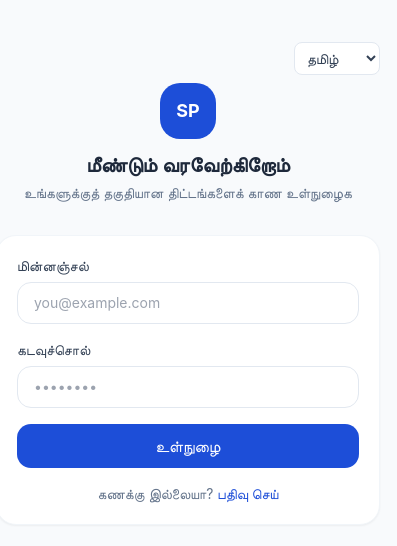
translated forms and validation › shows validation errors in the selected language
Click the button "உள்நுழை". click: coordinates (188, 446)
box: [17,424,359,468]
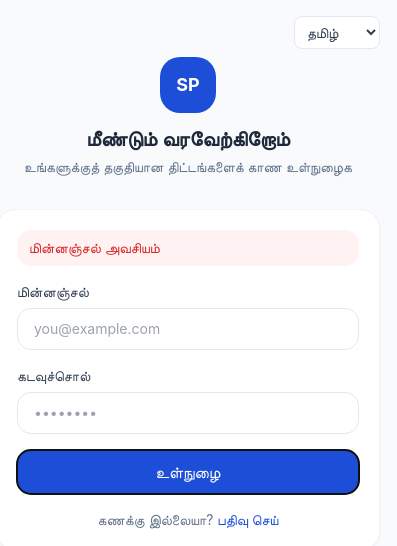
expect the message reads "மின்னஞ்சல் அவசியம்": met, box [29,238,160,256]
